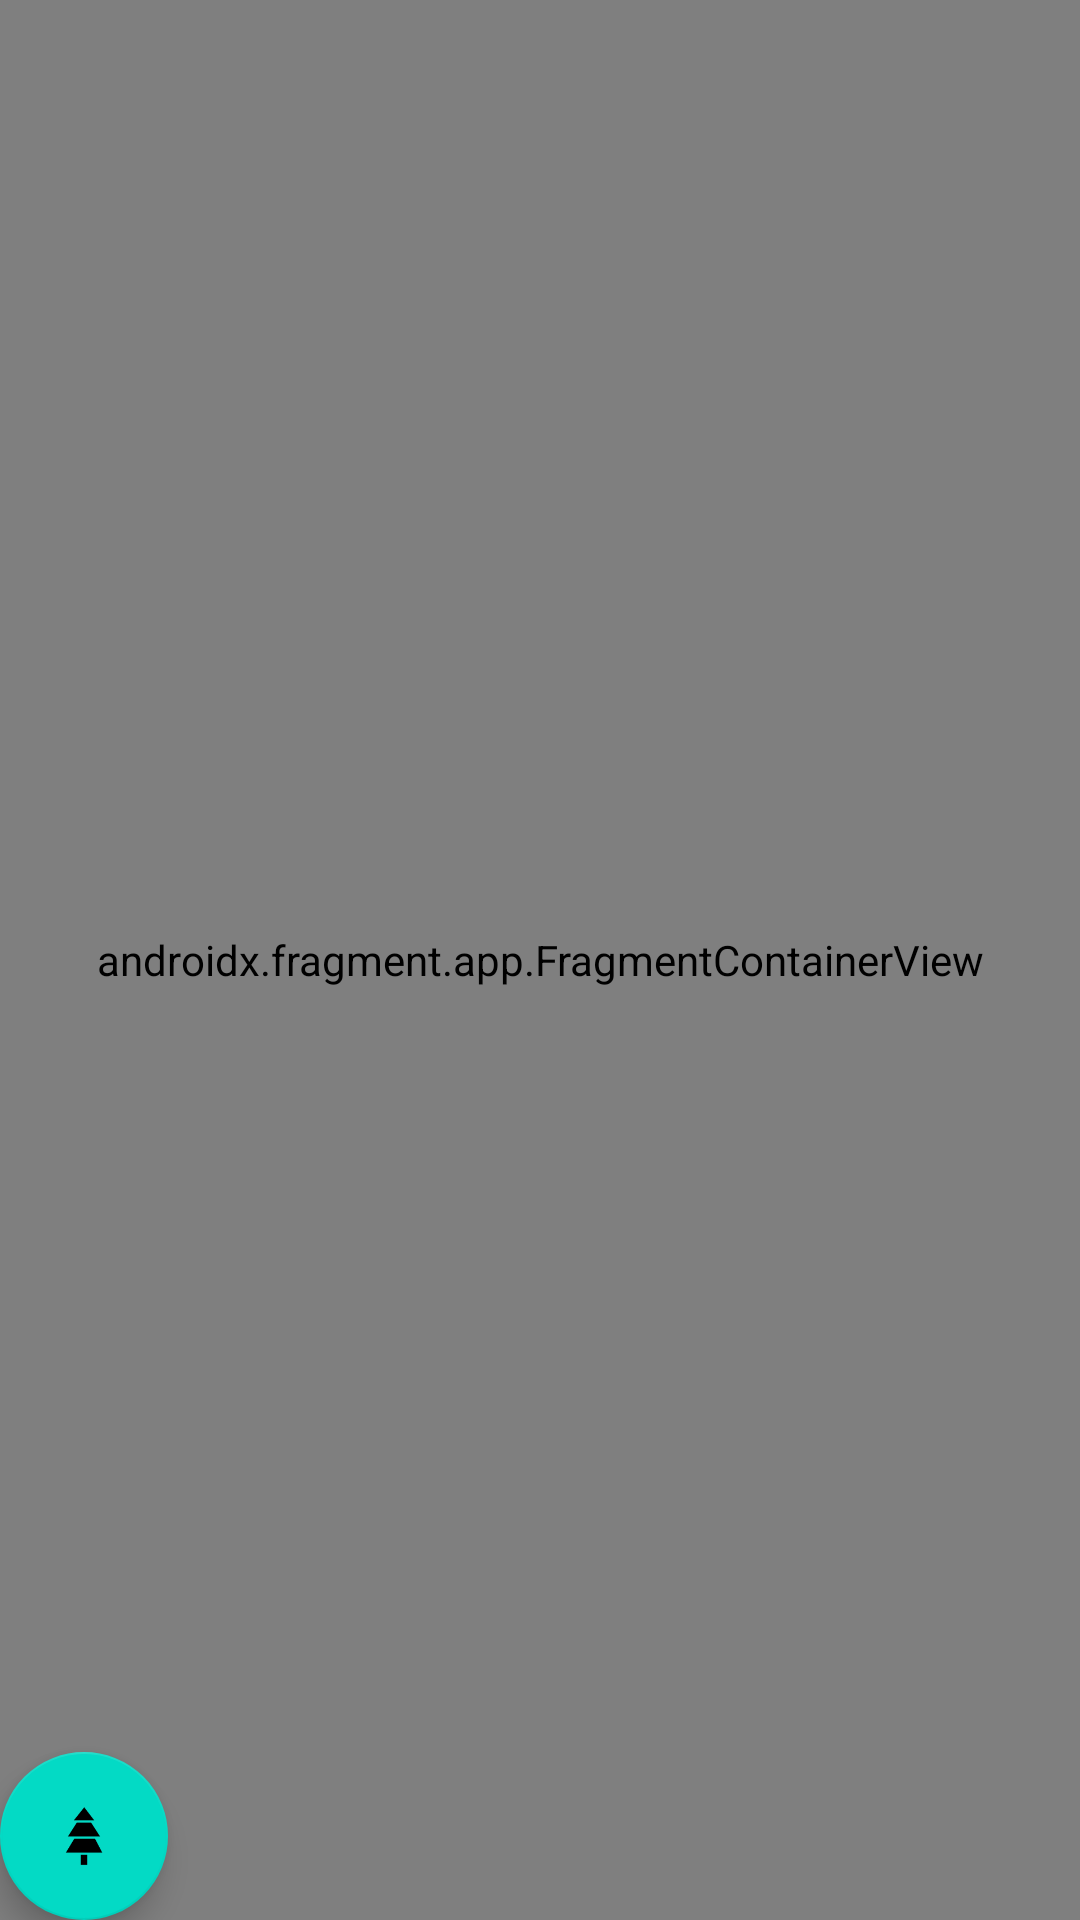

Screen size 1080x1920. Icon name, then its center in pixels as (x=x, y=y):
Add tree: (x=84, y=1836)
